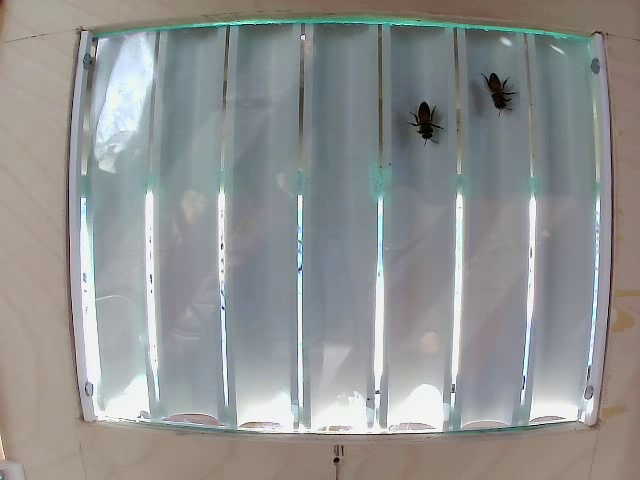bee: (408, 93, 452, 146), (481, 72, 520, 122)
